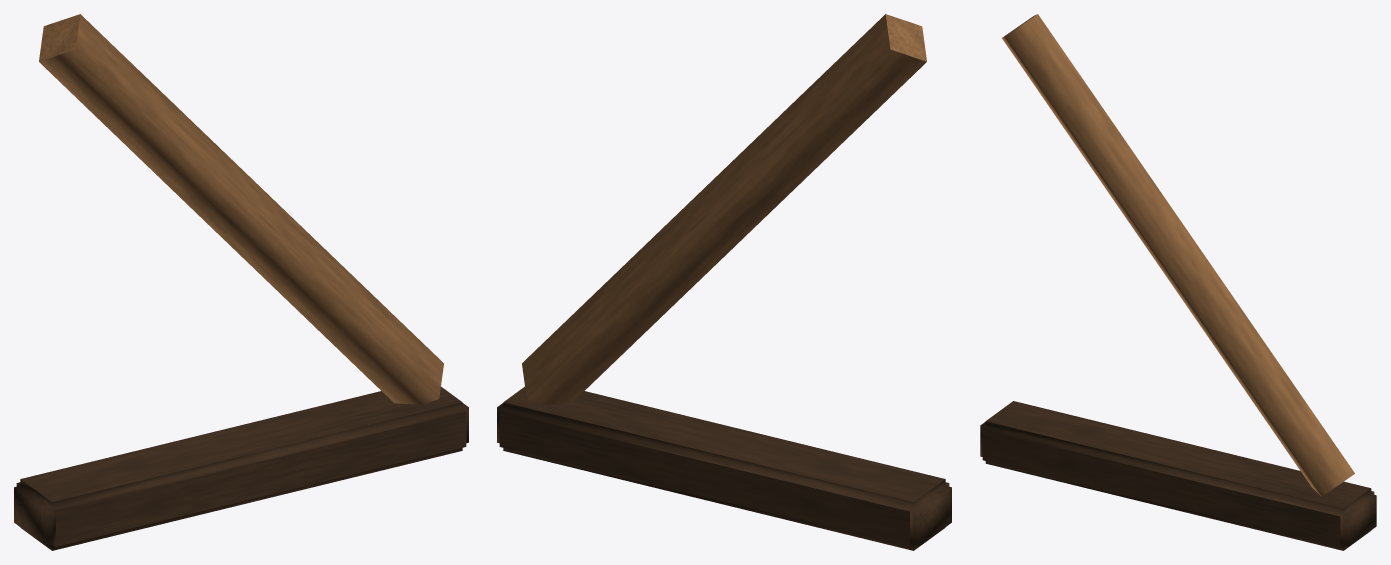
File: timber-brace-1.fbx
3 views of the same model, side by side, from view 1: azimuth 30°, elevation 25°; view 2: azimuth 150°, elevation 25°; view 3: azimuth 330°, elevation 25° (orthographic). The views are drawn at different scales.
Visible parts, largest first — view 1: timber-brace-1__Geometry; view 2: timber-brace-1__Geometry; view 3: timber-brace-1__Geometry.
Part boxes in pixels (x1=…): timber-brace-1__Geometry: x1=14, y1=14, x2=468, y2=550; timber-brace-1__Geometry: x1=497, y1=14, x2=951, y2=550; timber-brace-1__Geometry: x1=980, y1=14, x2=1376, y2=550.
Bounding box in the file's own units: 1 × 1.16 × 0.16.
1 material, 1 textured.
